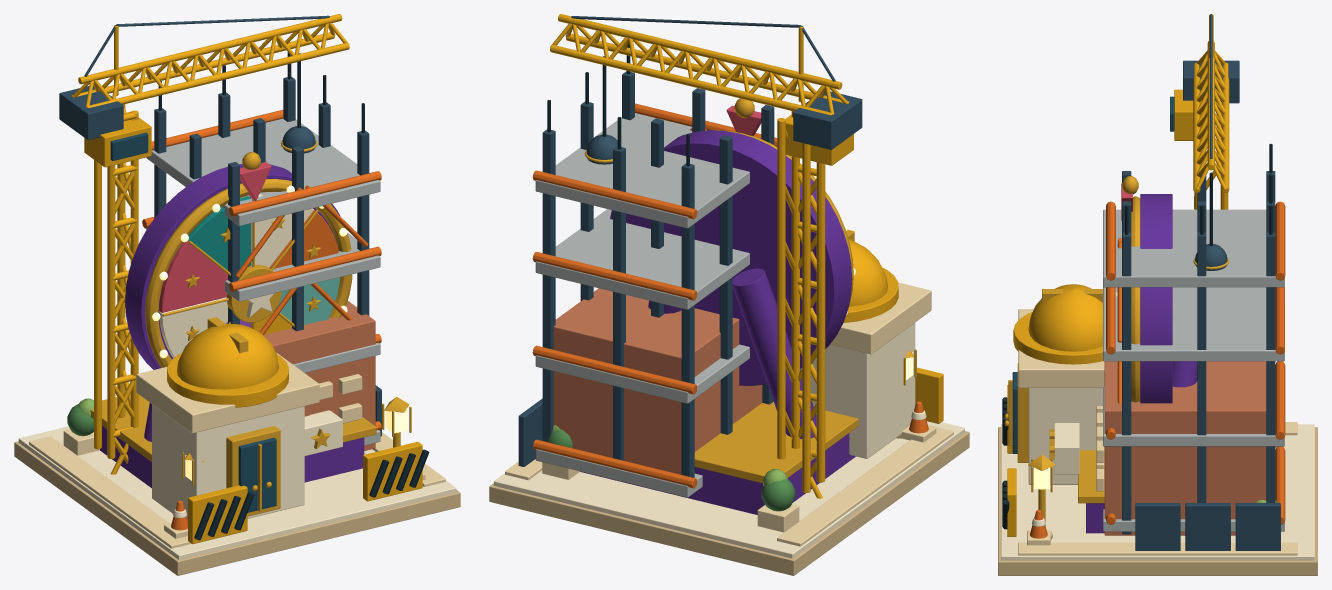
Rendered from life-specials.glb.
3 renders of one model, left to right at view 1: azimuth 30°, elevation 25°; view 2: azimuth 150°, elevation 25°; view 3: azimuth 270°, elevation 25°, orthographic. The views are drawn at different scales.
Visible parts, largest first — view 1: builders_guild_geometry, life_wheel_rotor_geometry, chance_wheel_geometry, life_crane_pendulum_geometry; view 2: builders_guild_geometry, chance_wheel_geometry, life_wheel_rotor_geometry, life_crane_pendulum_geometry; view 3: builders_guild_geometry, chance_wheel_geometry, life_wheel_rotor_geometry, life_crane_pendulum_geometry.
Part boxes in pixels (x1=…): builders_guild_geometry: x1=14, y1=14, x2=460, y2=574; life_wheel_rotor_geometry: x1=125, y1=164, x2=352, y2=369; chance_wheel_geometry: x1=14, y1=152, x2=460, y2=575; life_crane_pendulum_geometry: x1=280, y1=53, x2=317, y2=153; builders_guild_geometry: x1=490, y1=14, x2=969, y2=575; chance_wheel_geometry: x1=489, y1=98, x2=969, y2=575; life_wheel_rotor_geometry: x1=610, y1=130, x2=855, y2=385; life_crane_pendulum_geometry: x1=584, y1=56, x2=617, y2=164; builders_guild_geometry: x1=999, y1=14, x2=1316, y2=575; chance_wheel_geometry: x1=998, y1=176, x2=1317, y2=575; life_wheel_rotor_geometry: x1=1115, y1=194, x2=1172, y2=403; life_crane_pendulum_geometry: x1=1193, y1=172, x2=1229, y2=270.
Bounding box in the file's own units: 1.02 × 1.58 × 1.02.
